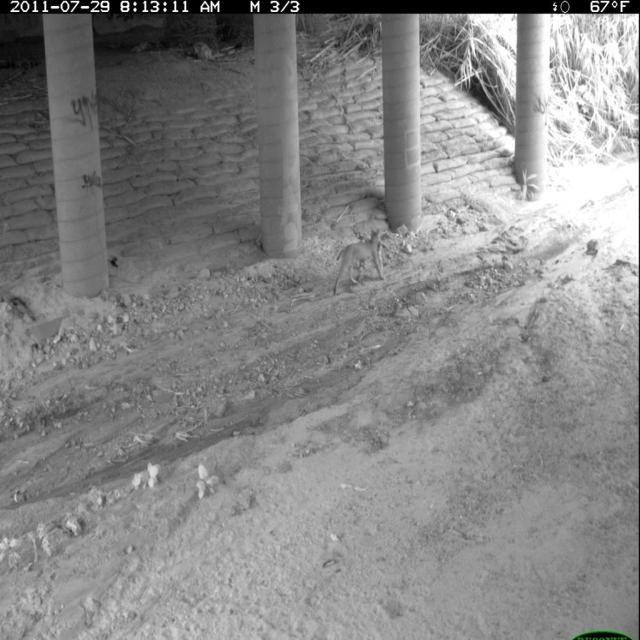bobcat: (331, 223, 388, 302)
rabbit: (375, 238, 388, 278)
